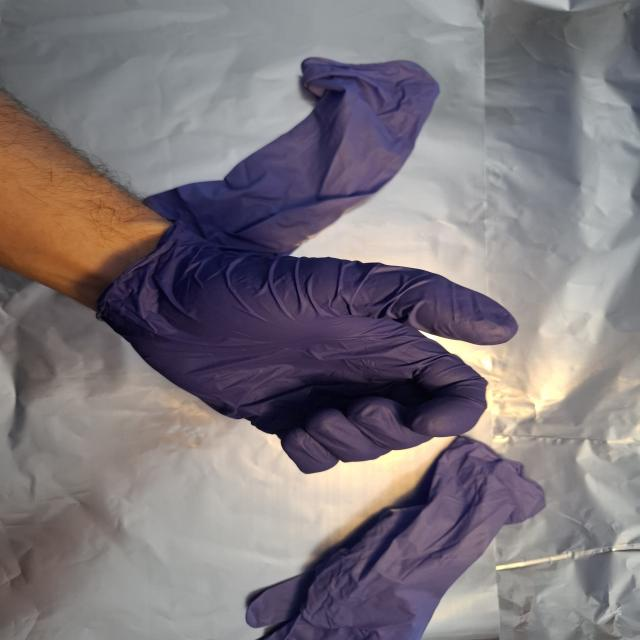glove_on: (94, 221, 526, 478)
